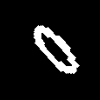chain: (34, 26, 78, 73)
